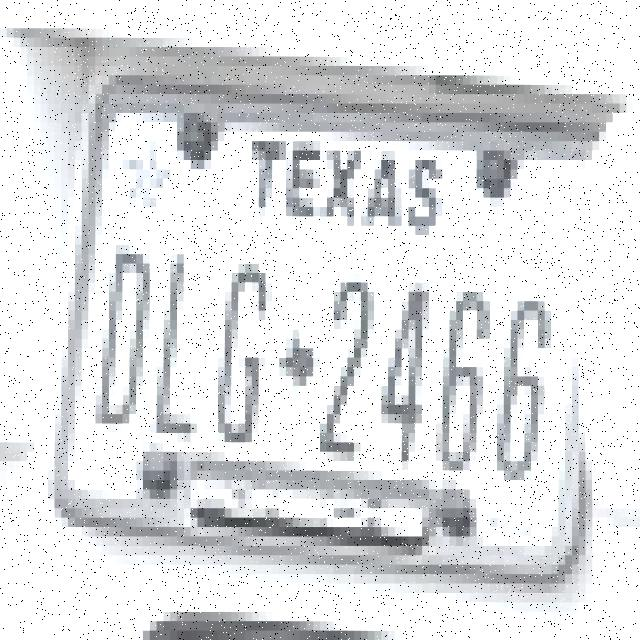licenseplate: (34, 36, 603, 596)
